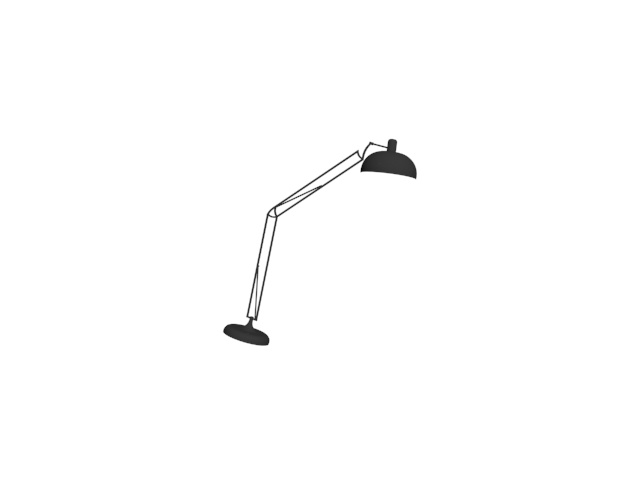desk_lamp: (217, 137, 424, 352)
